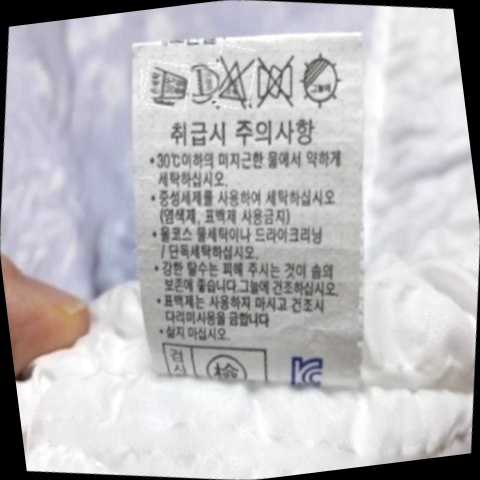DN_wring: (246, 46, 310, 115)
dry_clean: (181, 58, 225, 105)
hand_wash: (137, 52, 199, 113)
non_chlorine_bleach: (206, 47, 263, 113)
shade_dry: (287, 43, 356, 119)
